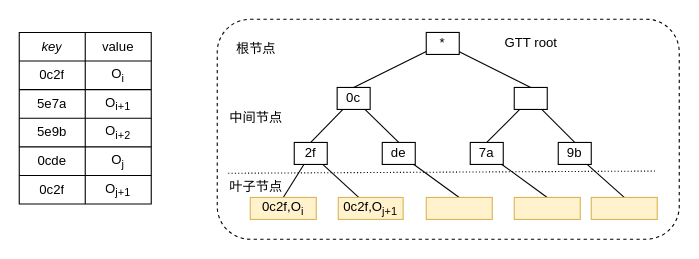
Some shapes in this 699 by 259 pixel diagram are drawn without their labels. Each missing label, with the centre of its shape:
"0cde,O j" goes at point 458,207.
"5e" goes at point 530,97.
"5e7a,O i+1" goes at point 546,207.
"5e9d,O i+2" goes at point 623,207.
